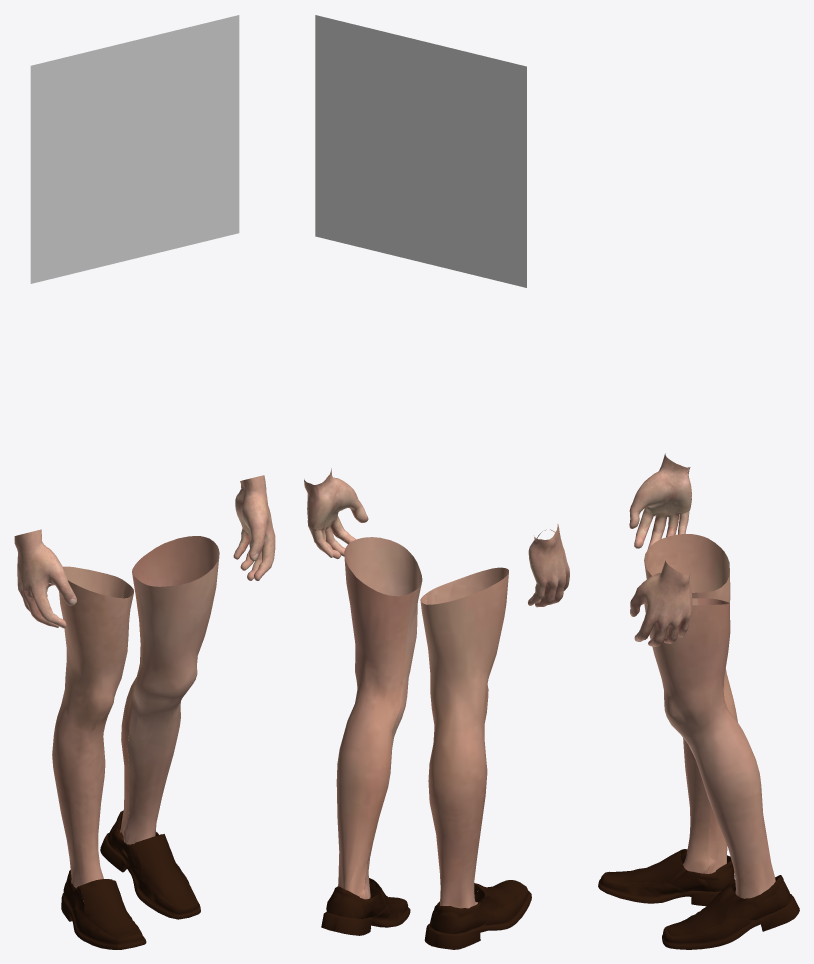
File: male_model_posed.glb
3 views of the same model, side by side, from view 1: azimuth 30°, elevation 25°; view 2: azimuth 150°, elevation 25°; view 3: azimuth 270°, elevation 25° (orthographic). The views are drawn at different scales.
Parts seen in each view (by area): view 1: face_plane_front, body_Node.004, body_Node001, shoes.001, shoes; view 2: face_plane_back, body_Node.004, body_Node001, shoes, shoes.001; view 3: body_Node.004, body_Node001, shoes.001, shoes.
Boxes of the visible parts, x1,y1,x2,y2 form: face_plane_front: (30,15,239,283); body_Node.004: (52,536,219,901); body_Node001: (14,475,275,628); shoes.001: (100,810,200,919); shoes: (61,870,146,949); face_plane_back: (315,15,526,287); body_Node.004: (336,537,508,908); body_Node001: (304,468,569,607); shoes: (424,880,531,949); shoes.001: (321,878,410,935); body_Node.004: (644,534,775,898); body_Node001: (629,453,692,646); shoes.001: (662,875,799,949); shoes: (598,849,735,906).
Bounding box in the file's own units: 59.19 × 199 × 42.42.
Materials: 3 (2 with a texture image).
